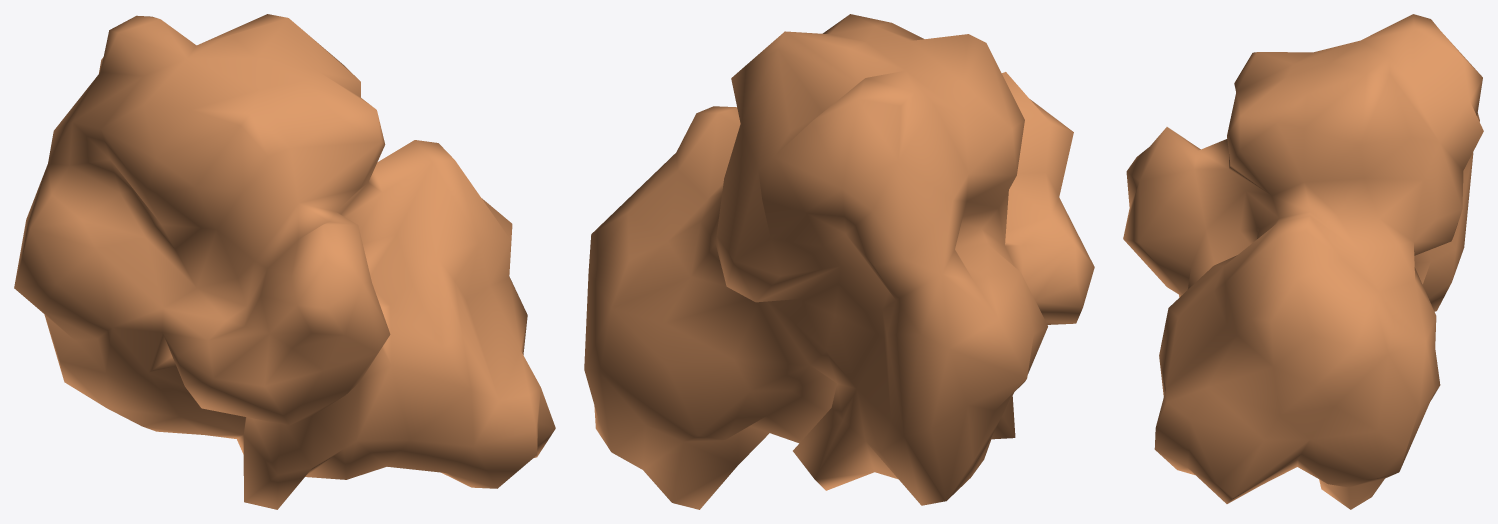
Rendered from MiinBloodPlasma_FactorB_2ok5_0_1_0.dae.
3 renders of one model, left to right at view 1: azimuth 30°, elevation 25°; view 2: azimuth 150°, elevation 25°; view 3: azimuth 270°, elevation 25°, orthographic. The views are drawn at different scales.
Visible parts, largest first — view 1: CoarseMS_2ok5; view 2: CoarseMS_2ok5; view 3: CoarseMS_2ok5.
Part boxes in pixels (box(x1,y1,x2,y2)): CoarseMS_2ok5: box(14, 14, 555, 509); CoarseMS_2ok5: box(584, 14, 1094, 509); CoarseMS_2ok5: box(1123, 14, 1483, 509).
Bounding box in the file's own units: 81.39 × 82.52 × 68.23.
